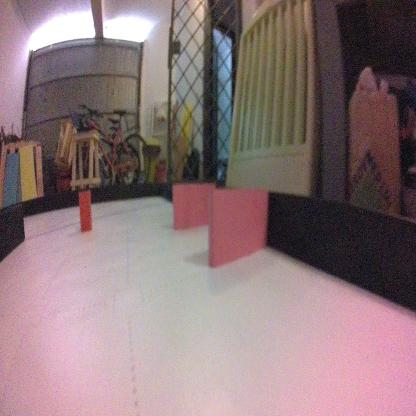magenta: (208, 186, 269, 268), (171, 182, 217, 232)
red: (77, 187, 93, 234)
